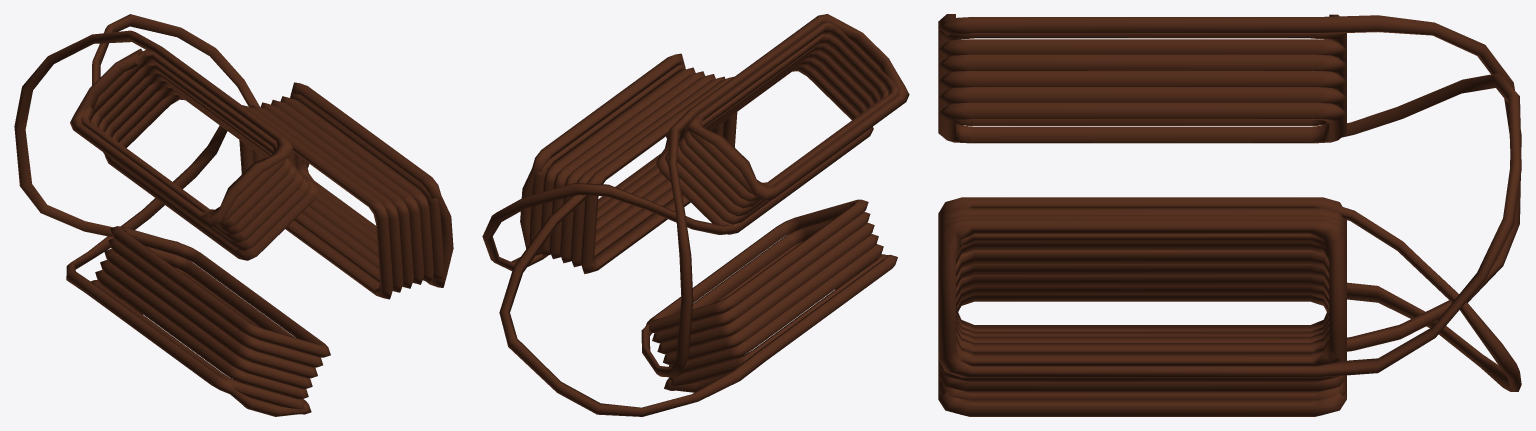
Rendered from Winding.fbx.
The picture shows the model from 3 angles, left to right: view 1: azimuth 30°, elevation 25°; view 2: azimuth 150°, elevation 25°; view 3: azimuth 270°, elevation 25°; orthographic projection. The views are drawn at different scales.
Visible parts, largest first — view 1: Wiring; view 2: Wiring; view 3: Wiring.
Part boxes in pixels (x1,y1,x2,y2): Wiring: [14, 14, 453, 416]; Wiring: [482, 14, 909, 416]; Wiring: [938, 14, 1521, 416].
Bounding box in the file's own units: 26.93 × 29.23 × 39.95.
